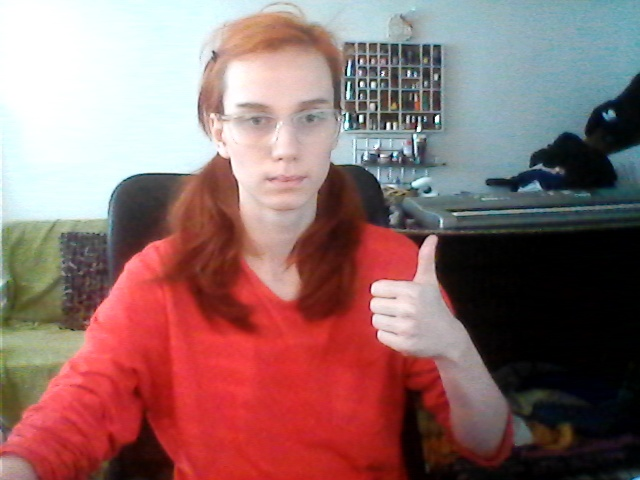jeden: (360, 227, 466, 364)
